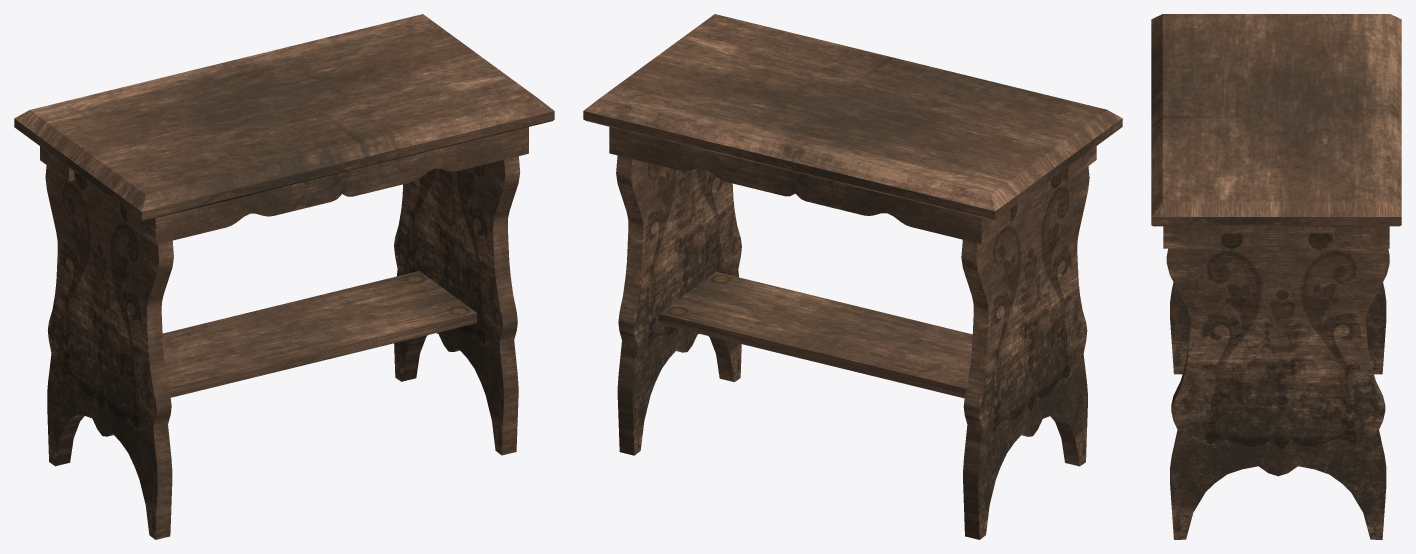
Rendered from obj_library_stool_downloadable_3a3660.glb.
The picture shows the model from 3 angles, left to right: view 1: azimuth 30°, elevation 25°; view 2: azimuth 150°, elevation 25°; view 3: azimuth 270°, elevation 25°; orthographic projection. The views are drawn at different scales.
Visible parts, largest first — view 1: obj_library_stool_downloadable_3a3660; view 2: obj_library_stool_downloadable_3a3660; view 3: obj_library_stool_downloadable_3a3660.
Part boxes in pixels (bbox=[...]): obj_library_stool_downloadable_3a3660: bbox=[14, 14, 554, 539]; obj_library_stool_downloadable_3a3660: bbox=[583, 14, 1122, 539]; obj_library_stool_downloadable_3a3660: bbox=[1151, 14, 1401, 539].
Bounding box in the file's own units: 0.5142 × 0.42 × 0.2752.
Materials: 1 (1 with a texture image).
